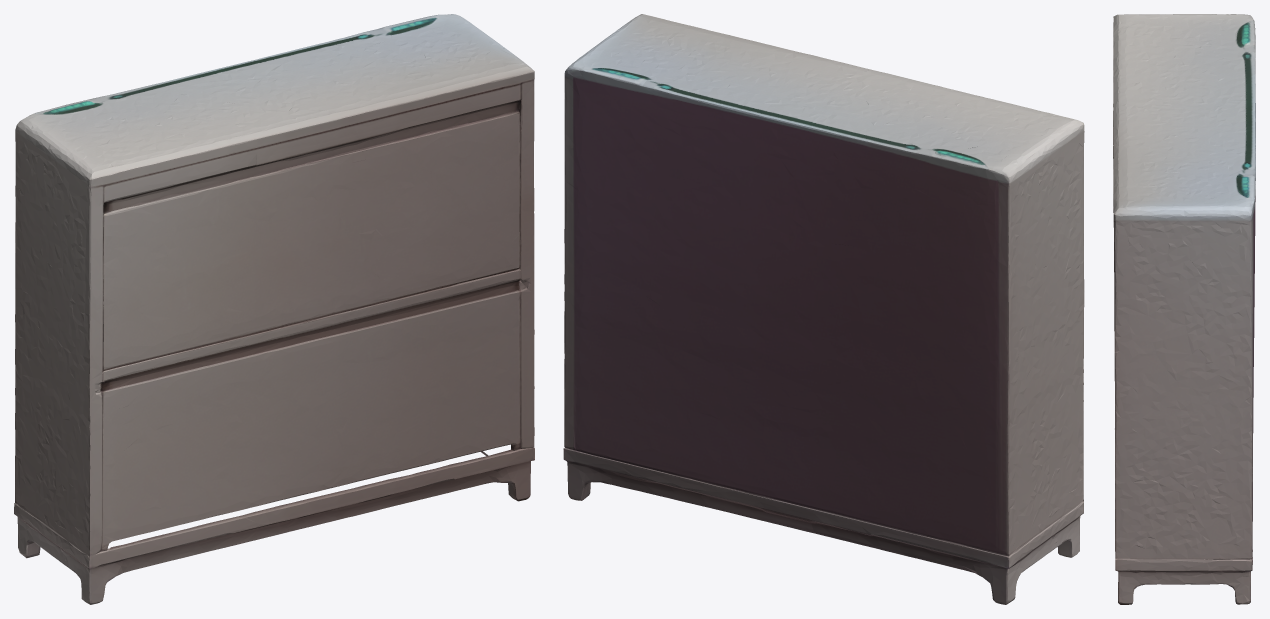
3 renders of one model, left to right at view 1: azimuth 30°, elevation 25°; view 2: azimuth 150°, elevation 25°; view 3: azimuth 270°, elevation 25°, orthographic. The views are drawn at different scales.
Visible parts, largest first — view 1: world; view 2: world; view 3: world.
Part boxes in pixels (box(x1,y1,x2,y2)): world: box(14, 14, 534, 604); world: box(563, 14, 1084, 604); world: box(1113, 14, 1255, 604).
Size of the model in its own units: 1 by 0.9357 by 0.3035.
Materials: 1 (1 with a texture image).
